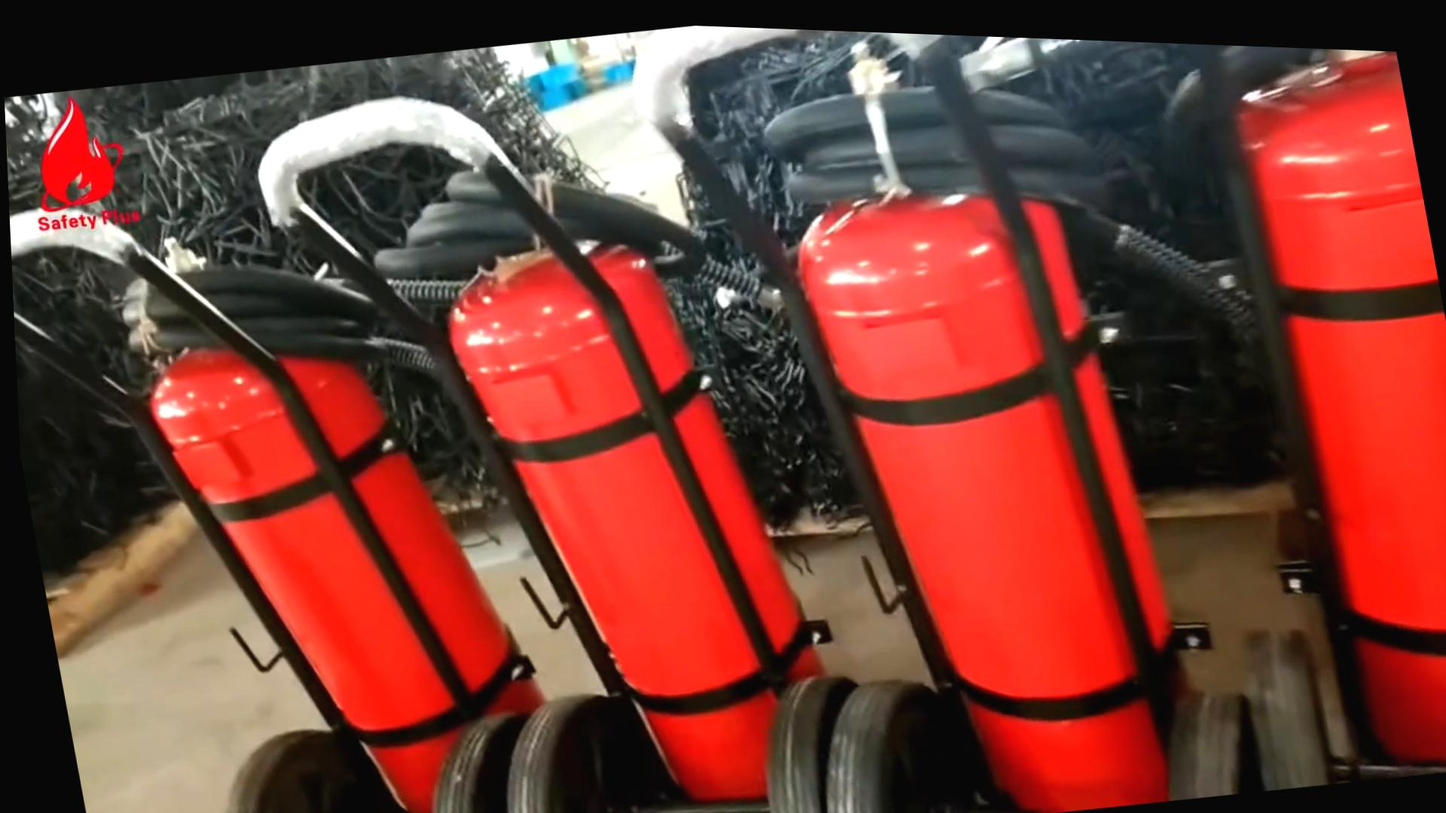FireExtinguisher: (739, 77, 1242, 813), (397, 181, 872, 813), (47, 237, 567, 813), (1161, 34, 1446, 783)
